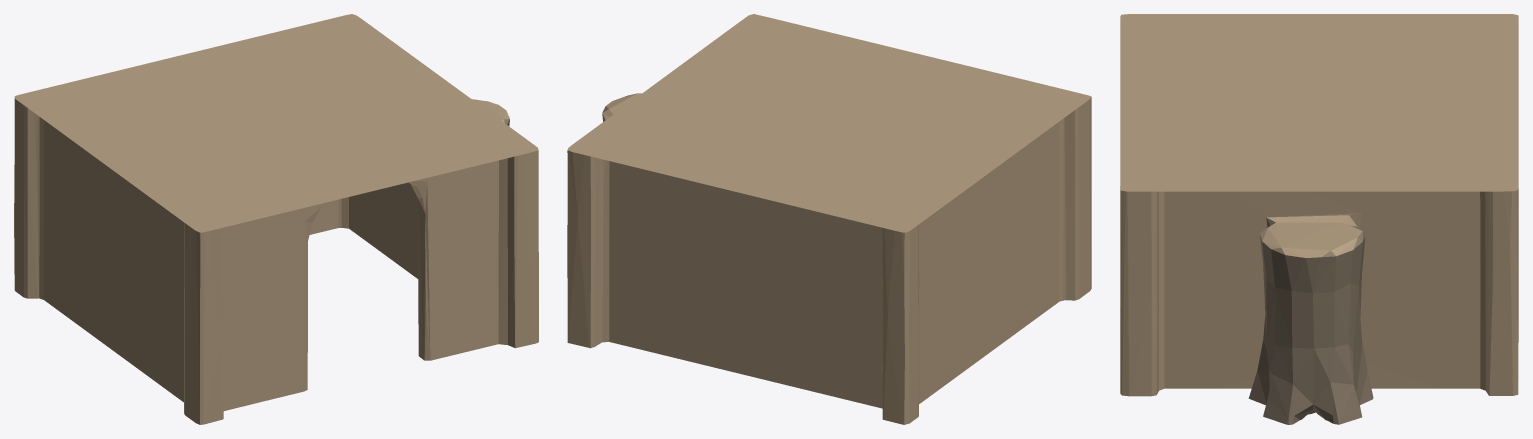
Rendered from etape-1.glb.
3 views of the same model, side by side, from view 1: azimuth 30°, elevation 25°; view 2: azimuth 150°, elevation 25°; view 3: azimuth 270°, elevation 25° (orthographic). The views are drawn at different scales.
Parts seen in each view (by area): view 1: geometry_0; view 2: geometry_0; view 3: geometry_0.
Boxes of the visible parts, box(x1,y1,x2,y2) form: geometry_0: box(14, 14, 538, 424); geometry_0: box(567, 14, 1091, 424); geometry_0: box(1120, 14, 1518, 424).
Bounding box in the file's own units: 0.8325 × 0.3847 × 0.6792.
